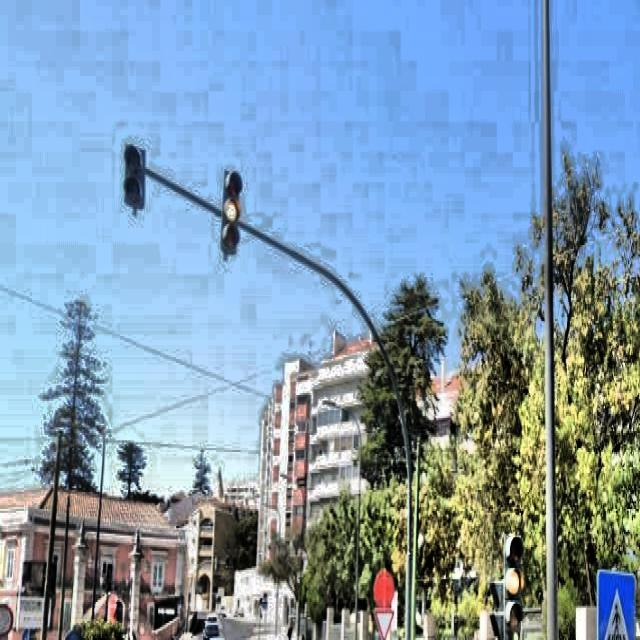yellow: (504, 532, 522, 633), (222, 170, 242, 257)
